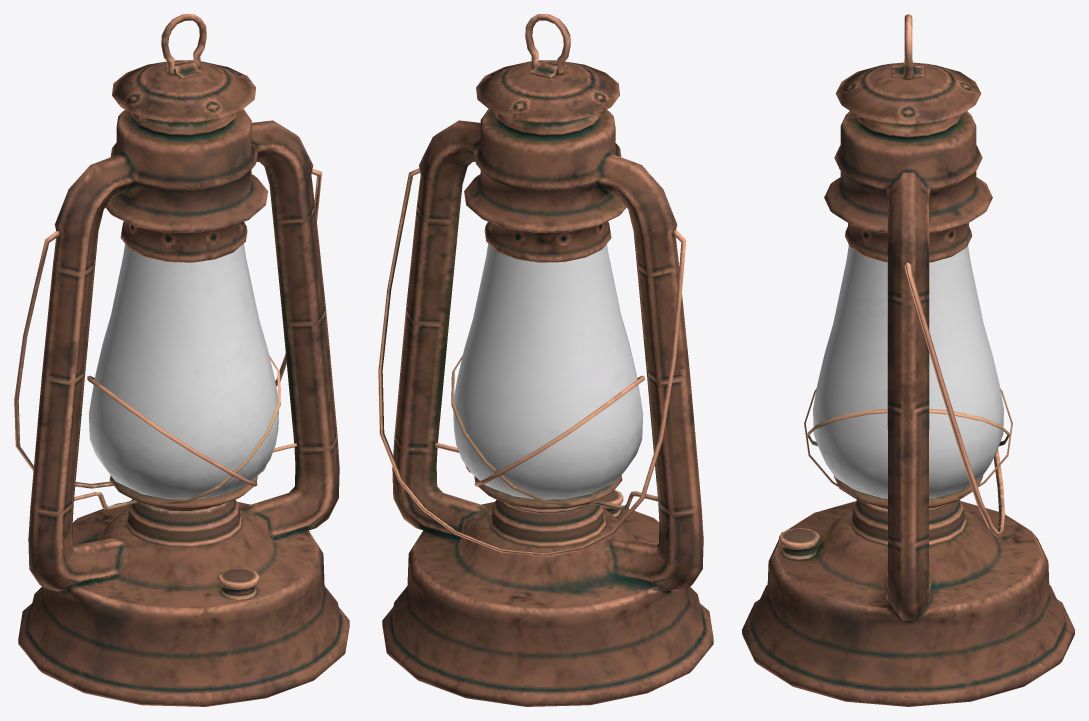
File: tableLamp04.FBX
The picture shows the model from 3 angles, left to right: view 1: azimuth 30°, elevation 25°; view 2: azimuth 150°, elevation 25°; view 3: azimuth 270°, elevation 25°; orthographic projection.
Parts seen in each view (by area): view 1: SM_TableLamp04; view 2: SM_TableLamp04; view 3: SM_TableLamp04.
Part boxes in pixels (<box>): SM_TableLamp04: <box>14,14,349,706</box>; SM_TableLamp04: <box>378,14,713,706</box>; SM_TableLamp04: <box>742,14,1074,706</box>.
Size of the model in its own units: 22.79 by 44.4 by 21.54.
2 materials, 2 textured.
